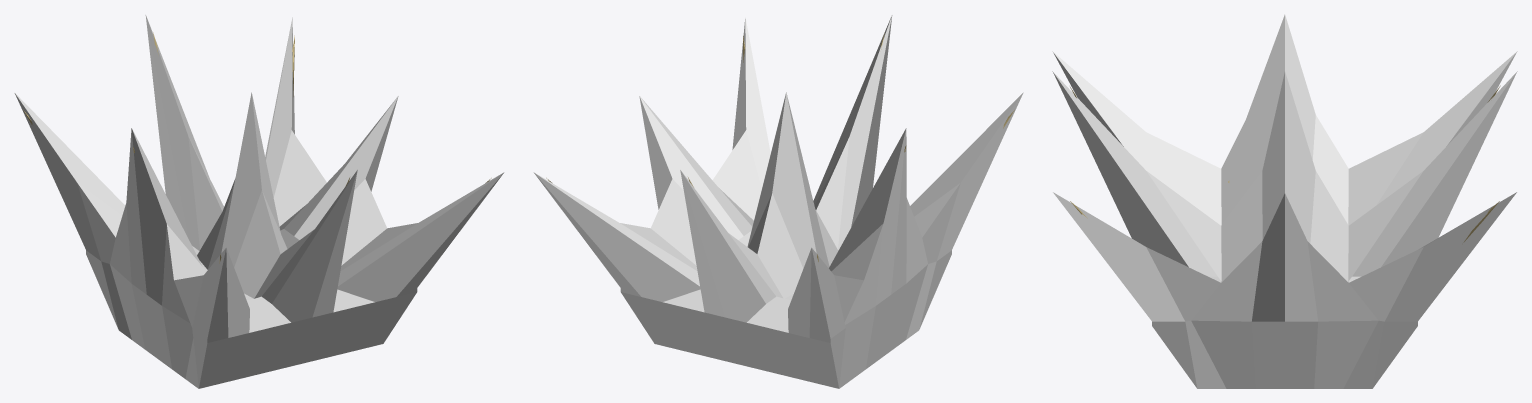
Rendered from resource__grass__grass-small.fbx.
3 renders of one model, left to right at view 1: azimuth 30°, elevation 25°; view 2: azimuth 150°, elevation 25°; view 3: azimuth 270°, elevation 25°, orthographic. The views are drawn at different scales.
Visible parts, largest first — view 1: Grass_Small; view 2: Grass_Small; view 3: Grass_Small.
Boxes of the visible parts, box(x1,y1,x2,y2) form: Grass_Small: box(14, 15, 504, 388); Grass_Small: box(533, 15, 1023, 388); Grass_Small: box(1052, 14, 1517, 388).
Size of the model in its own units: 32.18 by 27.1 by 42.48.
